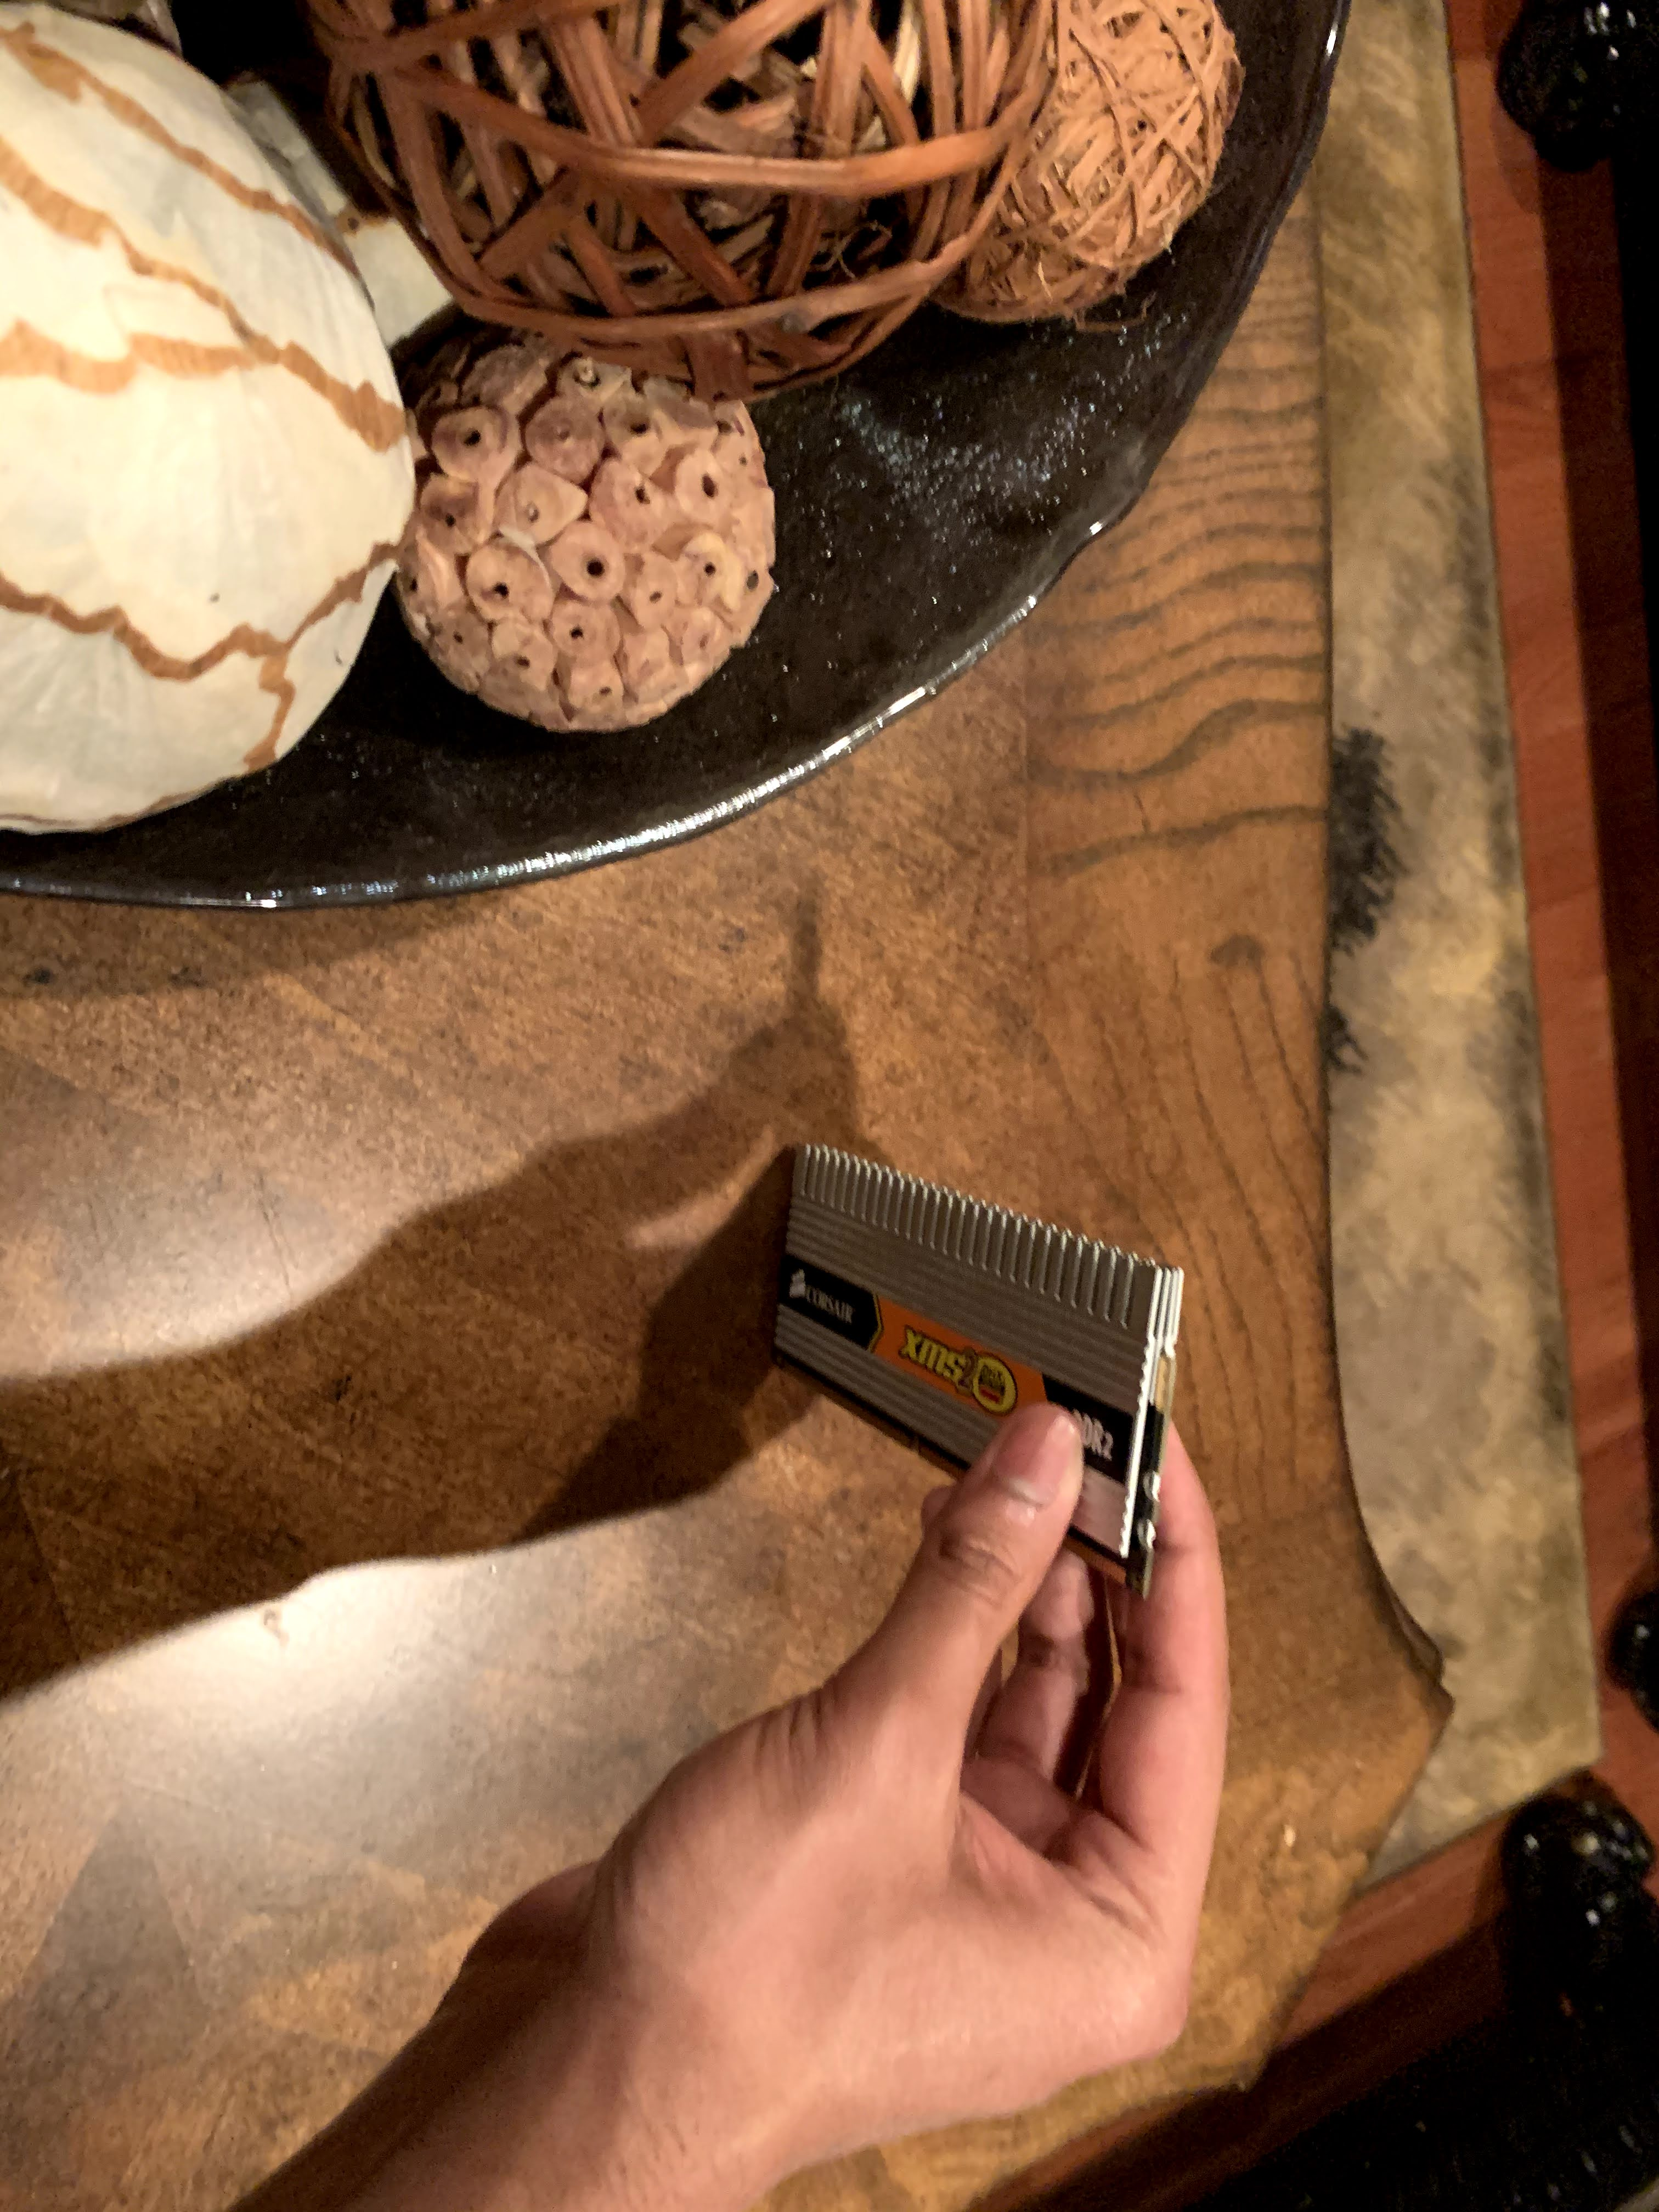Space-debris-medium: (737, 1113, 1229, 1578)
